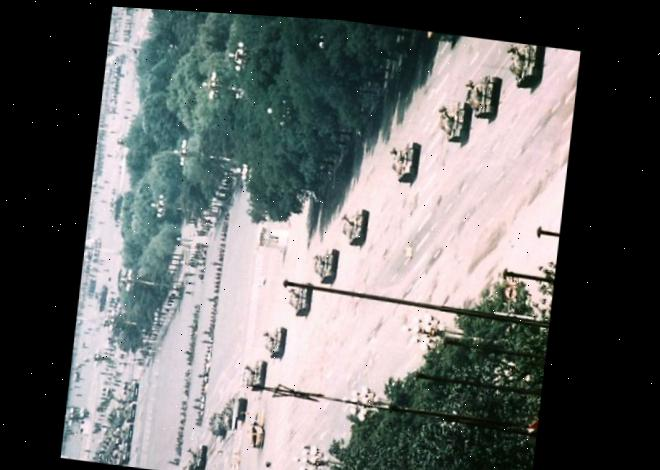tank: (501, 41, 547, 90), (430, 93, 471, 147), (461, 72, 502, 122), (383, 142, 424, 188), (336, 203, 367, 249), (305, 245, 336, 288)
